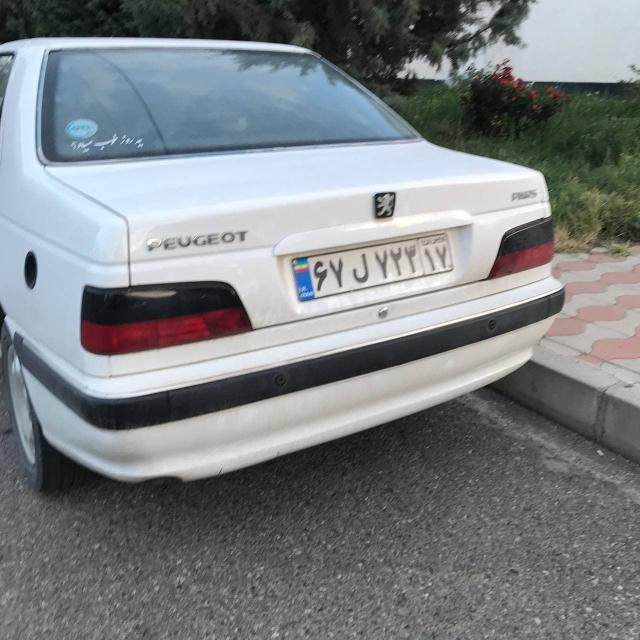Plates: (291, 227, 454, 301)
